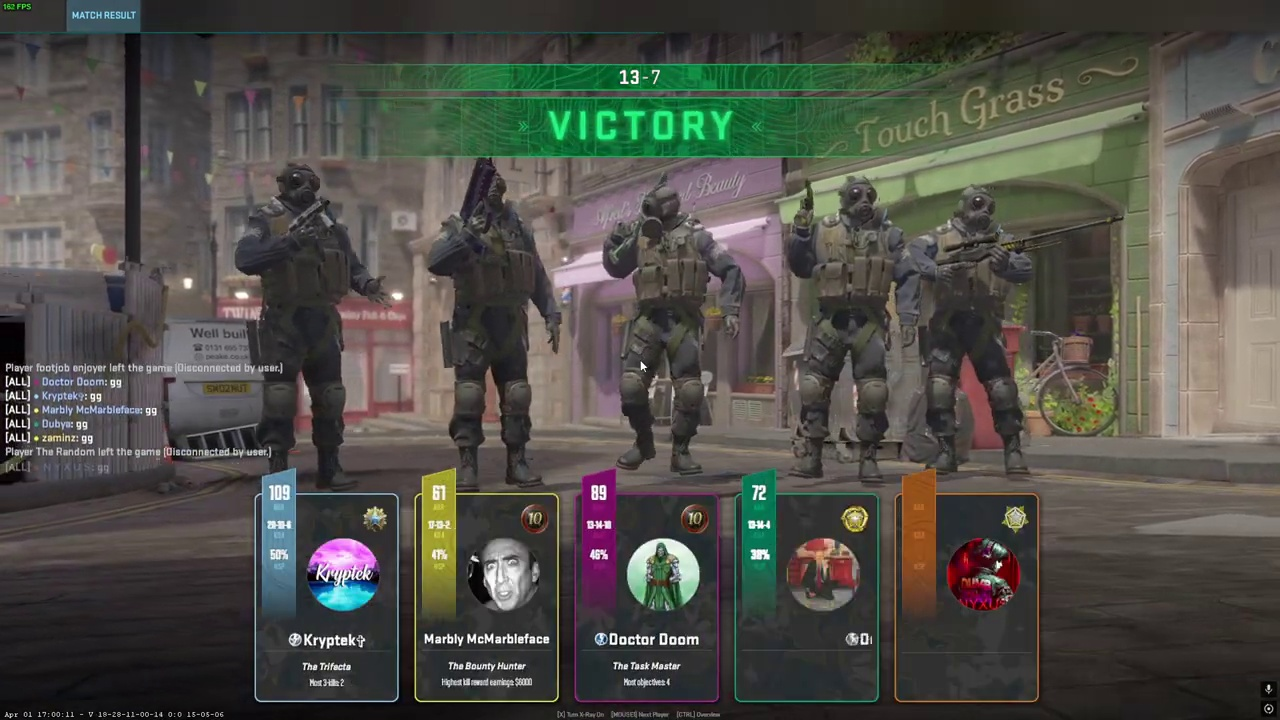CT: (432, 160, 546, 486), (246, 163, 360, 489), (785, 175, 903, 481), (912, 186, 1029, 477), (610, 184, 723, 474)
